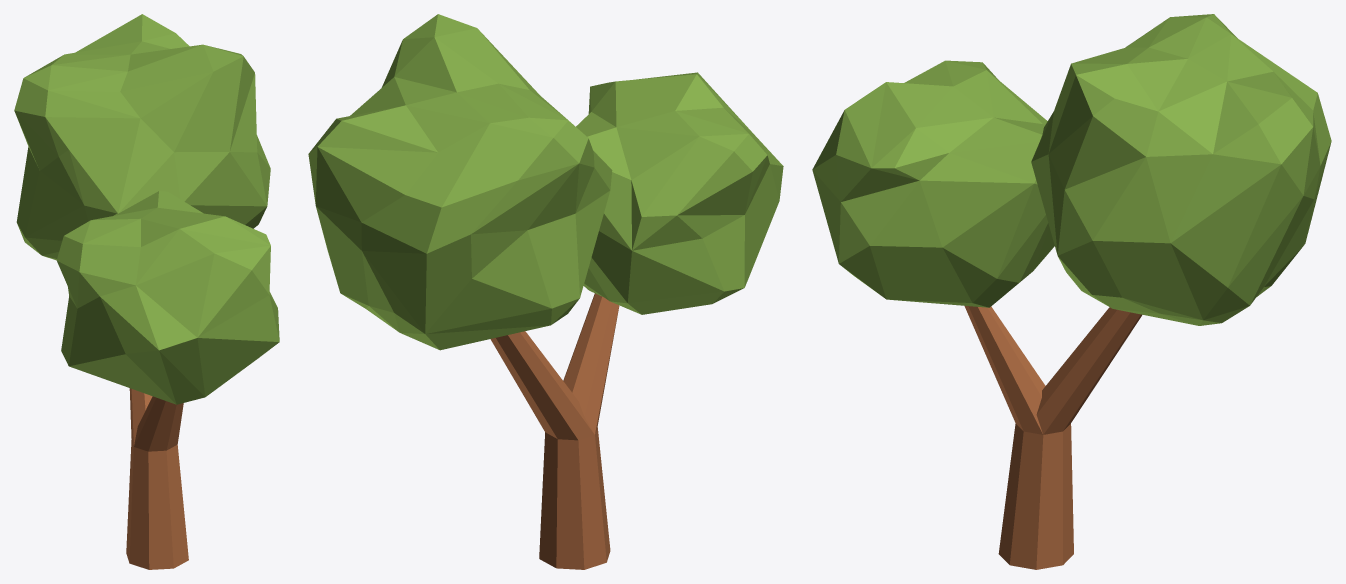
The model's file is tree_2.fbx.
3 renders of one model, left to right at view 1: azimuth 30°, elevation 25°; view 2: azimuth 150°, elevation 25°; view 3: azimuth 270°, elevation 25°, orthographic. The views are drawn at different scales.
Visible parts, largest first — view 1: Sphere, Sphere.001, Circle; view 2: Sphere, Sphere.001, Circle; view 3: Sphere, Sphere.001, Circle.
Part boxes in pixels (x1,y1,x2,y2): Sphere: (14, 14, 270, 260); Sphere.001: (56, 191, 279, 404); Circle: (126, 388, 188, 569); Sphere: (308, 14, 612, 350); Sphere.001: (576, 72, 783, 314); Circle: (490, 293, 619, 569); Sphere: (1031, 14, 1331, 325); Sphere.001: (812, 60, 1054, 307); Circle: (964, 306, 1142, 569).
Bounding box in the file's own units: 345 × 557 × 488.
